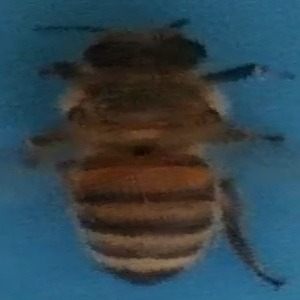bee: (20, 18, 288, 291)
